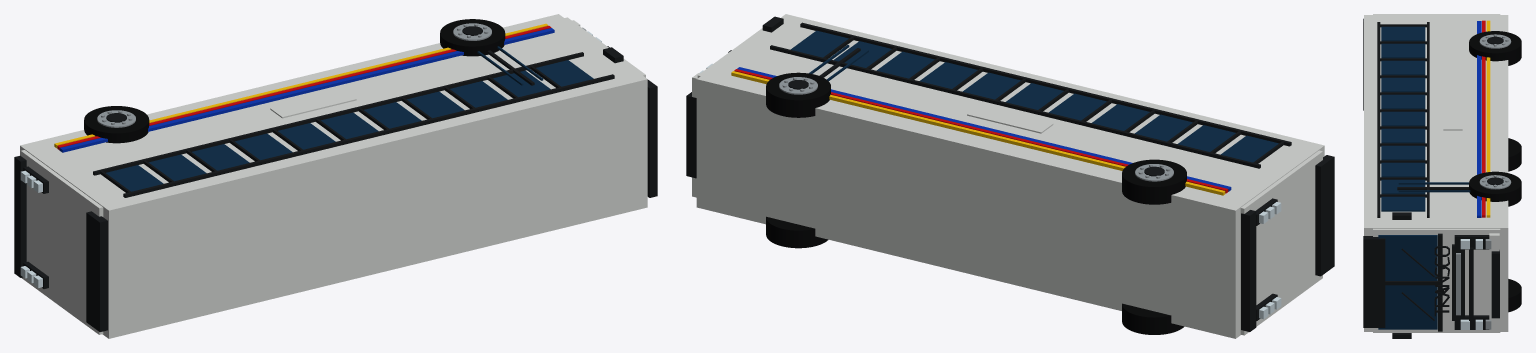
The model's file is TRANSCO_Bus_Unity.fbx.
The picture shows the model from 3 angles, left to right: view 1: azimuth 30°, elevation 25°; view 2: azimuth 150°, elevation 25°; view 3: azimuth 270°, elevation 25°; orthographic projection. The views are drawn at different scales.
Parts seen in each view (by area): view 1: TRANSCO_Bus; view 2: TRANSCO_Bus; view 3: TRANSCO_Bus.
Boxes of the visible parts, box(x1,y1,x2,y2) form: TRANSCO_Bus: box(14, 14, 657, 338); TRANSCO_Bus: box(686, 14, 1334, 338); TRANSCO_Bus: box(1363, 14, 1521, 338).
Size of the model in its own units: 11.49 by 2.97 by 3.43.
